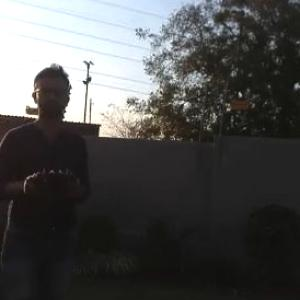follow: (0, 57, 91, 299)
